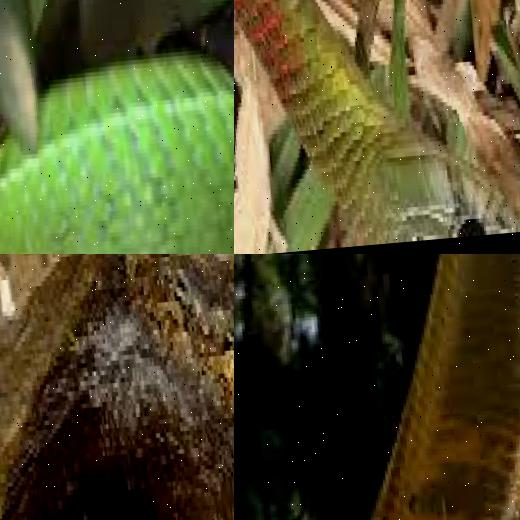snake: (234, 0, 520, 254), (0, 254, 234, 520), (0, 0, 234, 254), (306, 254, 520, 520)
